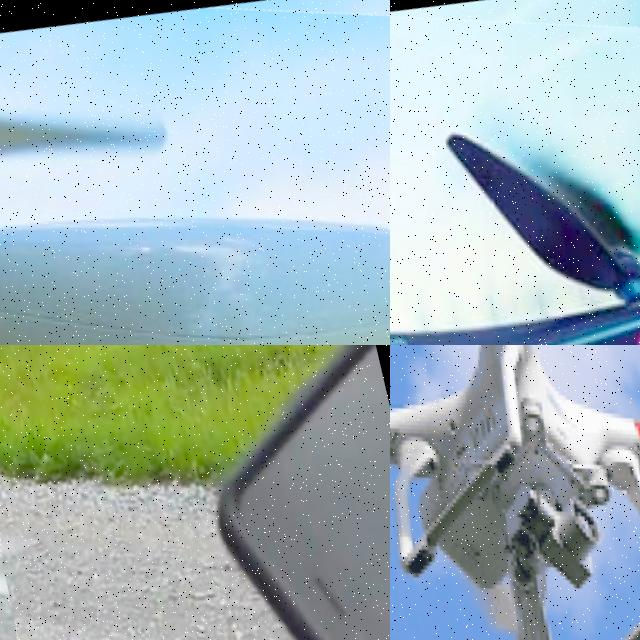drone: (0, 0, 390, 345), (390, 0, 640, 345), (390, 345, 640, 640)
